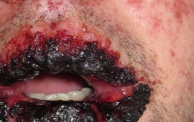SJS-TEN: (0, 16, 157, 122)
